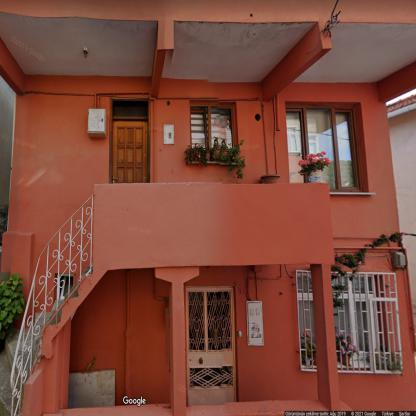door: (186, 290, 232, 400), (113, 120, 148, 181)
window: (287, 112, 359, 190), (331, 278, 376, 351), (190, 108, 233, 146), (297, 273, 312, 336)
